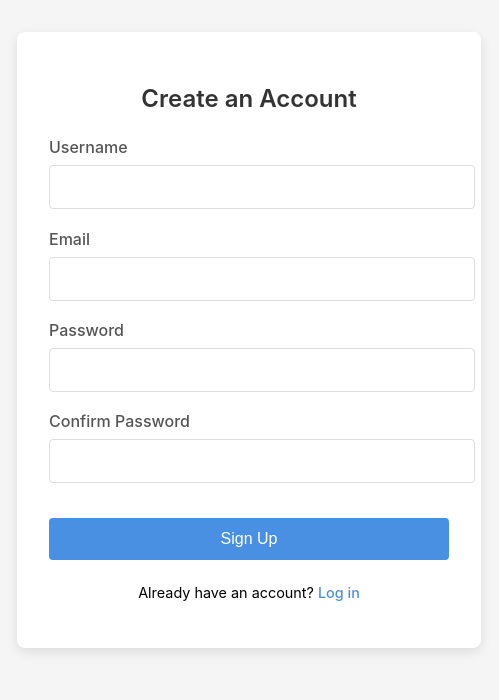
Test: Register Component › shows error when passwords do not match
The image size is (499, 700).
// Fill in the form with mismatched passwords
Type "testuser" into the field labelled "Username" at (262, 187), box [49,165,475,209]
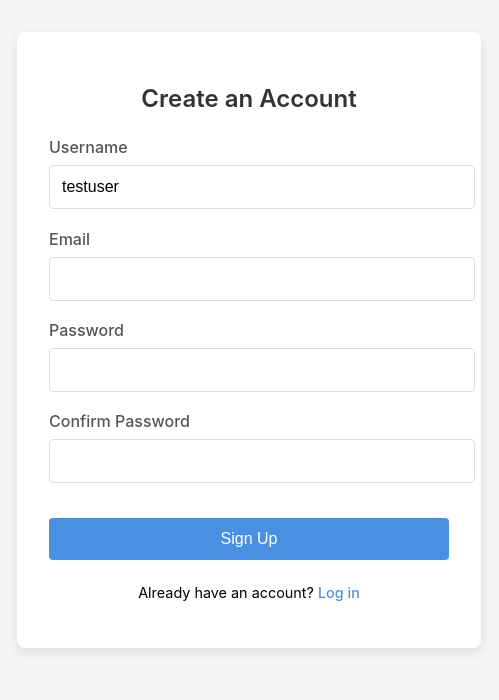
Type "test@example.com" into the field labelled "Email" at (262, 279), box [49,257,475,301]
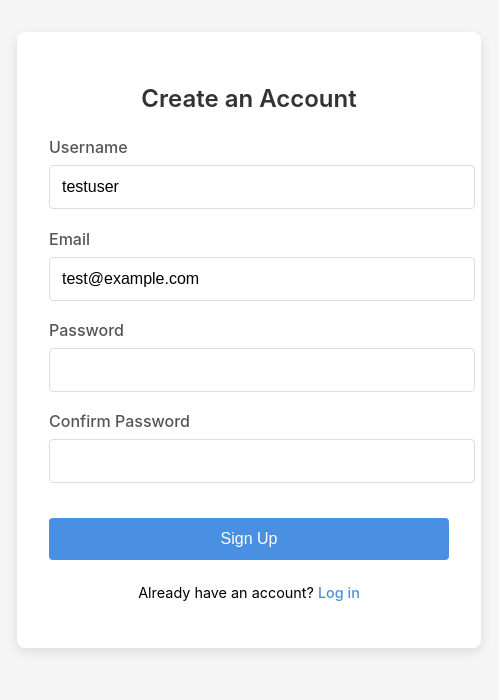
Type "testpassword" into the password field labelled "Password" at (262, 370), box [49,348,475,392]
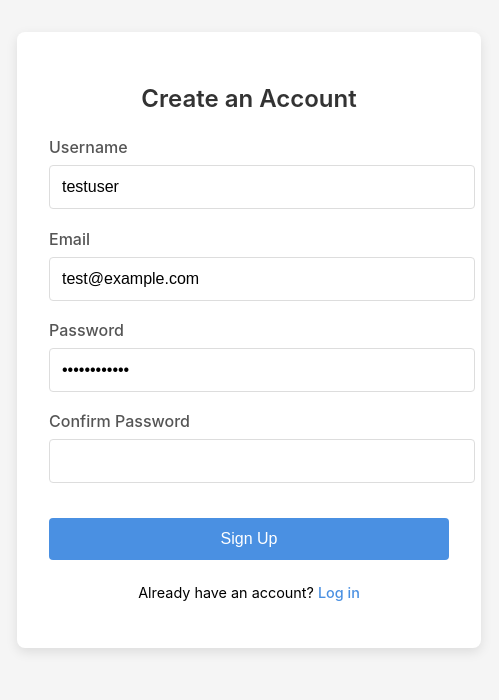
Type "differentpassword" into the password field labelled "Confirm Password" at (262, 461), box [49,439,475,483]
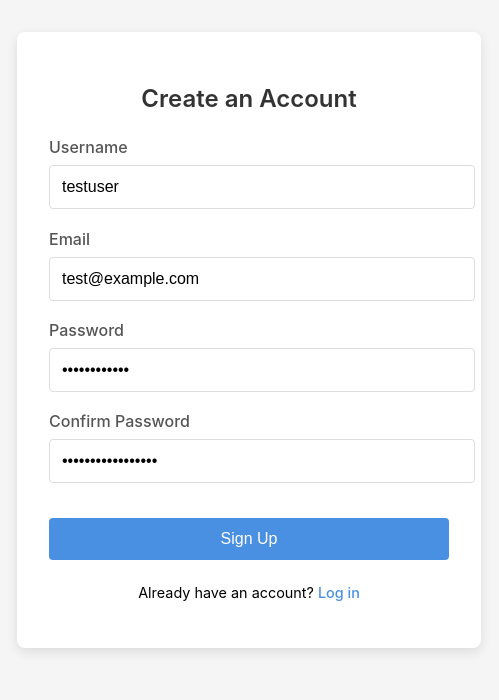
// Submit the form
Click the button "Sign Up" at (249, 539), box [49,518,449,560]
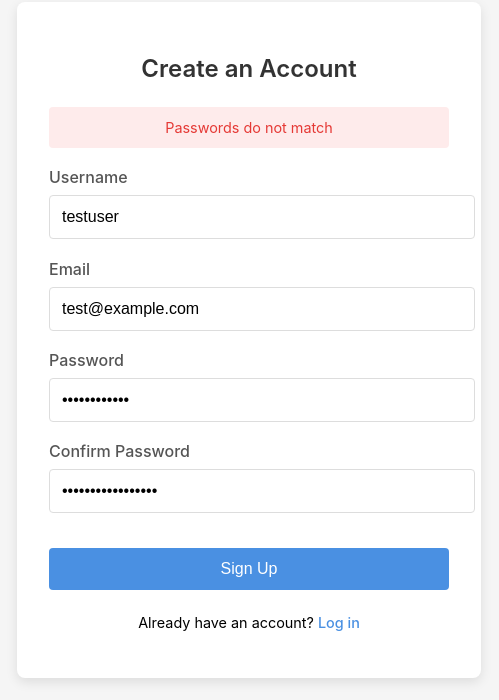
Now the text "Passwords do not match" is shown, box [49,107,449,148]
